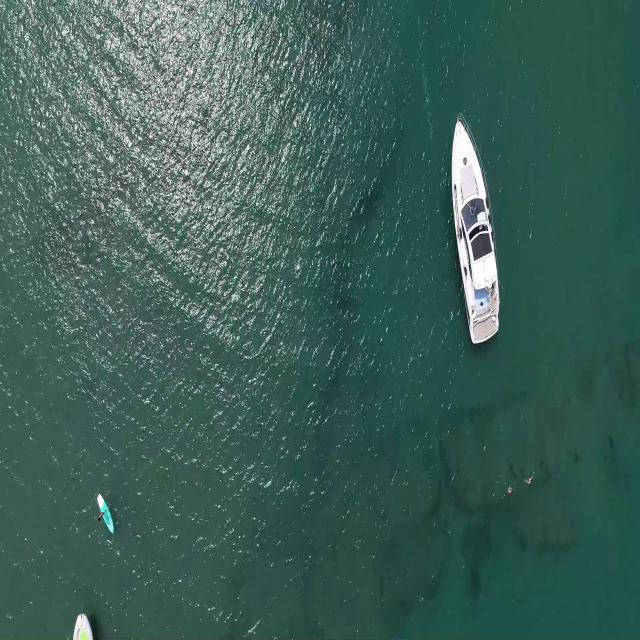boat: (448, 112, 503, 350)
person: (523, 471, 536, 485), (96, 507, 108, 522), (507, 484, 515, 494)
surfboard: (98, 490, 114, 540)
